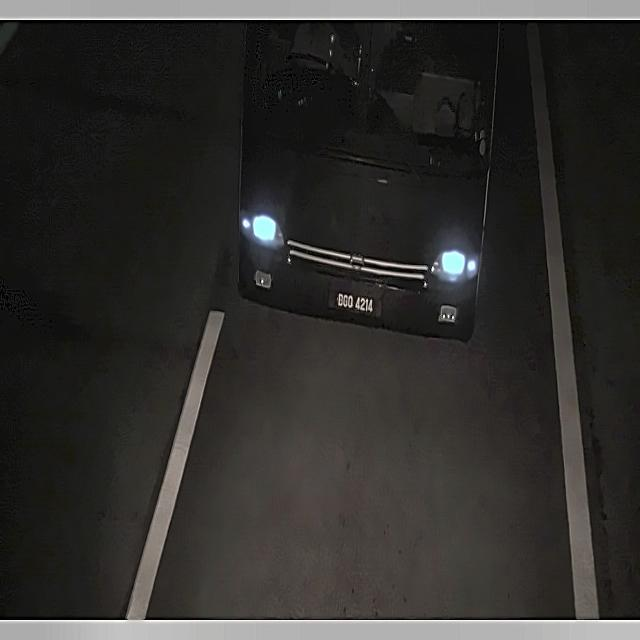car: (329, 289, 380, 319)
